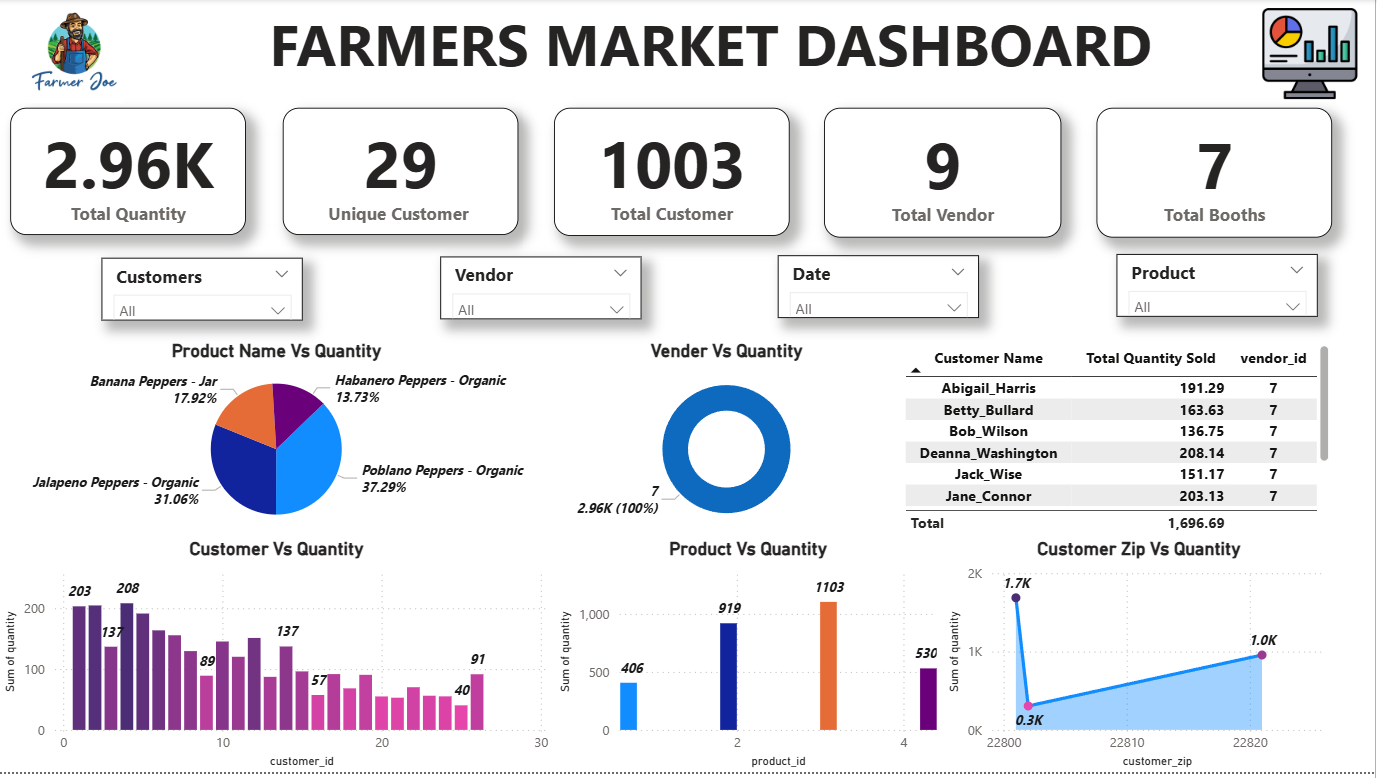

This screenshot's page, from the dashboard's own definition file:
{"tool":"powerbi","page":{"name":"Quantity Wise Analysis","canvas":[1280,720],"ordinal":0},"visuals":[{"type":"columnChart","title":"Customer Vs Quantity","fields":{"Category":["customer_purchases.customer_id"],"Y":["Sum(customer_purchases.quantity)"]},"box":[0,501.2,516.2,218.8],"z":0},{"type":"slicer","fields":{"Values":["customer_purchases.market_date"]},"box":[725,238.8,187.5,58.8],"z":1000},{"type":"clusteredColumnChart","title":"Product Vs Quantity","fields":{"Y":["Sum(customer_purchases.quantity)"],"Series":["product.product_id"],"Category":["product.product_id"]},"box":[516.2,501.2,361.2,218.8],"z":2000},{"type":"pieChart","title":"Product Name Vs Quantity","fields":{"Category":["product.product_name"],"Y":["Sum(customer_purchases.quantity)"]},"box":[0,317.5,516.2,183.8],"z":3000},{"type":"donutChart","title":"Vender Vs Quantity","fields":{"Category":["vendor.vendor_id"],"Y":["Sum(customer_purchases.quantity)"]},"box":[516.2,317.5,321.2,183.8],"z":4000},{"type":"textbox","box":[0,0,1280.3,101.5],"z":5000},{"type":"image","box":[1158.2,0,122.1,101.5],"z":6000},{"type":"card","fields":{"Values":["Sum(customer_purchases.quantity)"]},"box":[11,101.5,219.6,118],"z":7000},{"type":"card","fields":{"Values":["Count(customer_purchases.customer_id)"]},"box":[263.5,101.5,219.6,118],"z":8000},{"type":"card","fields":{"Values":["CountNonNull(customer_purchases.customer_id)"]},"box":[516,101.5,219.6,119.4],"z":9000},{"type":"card","fields":{"Values":["CountNonNull(vendor.vendor_id)"]},"box":[767.1,101.5,220.9,120.8],"z":10000},{"type":"card","fields":{"Values":["Count(vendor_booth_assignments.booth_number)"]},"box":[1020.9,101.5,219.6,120.8],"z":11000},{"type":"image","box":[0,0,140,101.5],"z":12000},{"type":"tableEx","fields":{"Values":["customer.customer_FullName","Sum(customer_purchases.quantity)","customer_purchases.vendor_id"]},"box":[837.5,317.5,405,183.8],"z":13000},{"type":"areaChart","title":"Customer Zip Vs Quantity","fields":{"Category":["customer.customer_zip"],"Y":["Sum(customer_purchases.quantity)"]},"box":[877.5,501.2,365,218.8],"z":14000},{"type":"slicer","fields":{"Values":["customer_purchases.vendor_id"]},"box":[410,240,187.5,58.8],"z":15000},{"type":"slicer","fields":{"Values":["customer_purchases.customer_id"]},"box":[95,241.2,187.5,58.8],"z":16000},{"type":"slicer","fields":{"Values":["customer_purchases.product_id"]},"box":[1040,237.5,187.5,58.8],"z":17000}]}

Visuals, with their boxes in screenshot pixels (x1, y1, x2, y2), scaled from the page's 1280x720 canvas onto the 1377x778 screenshot:
"Customer Vs Quantity" columnChart: x1=0 y1=542 x2=555 y2=777
slicer - customer_purchases.market_date: x1=780 y1=258 x2=982 y2=322
"Product Vs Quantity" clusteredColumnChart: x1=555 y1=542 x2=944 y2=777
"Product Name Vs Quantity" pieChart: x1=0 y1=343 x2=555 y2=542
"Vender Vs Quantity" donutChart: x1=555 y1=343 x2=901 y2=542
textbox: x1=0 y1=0 x2=1376 y2=110
image: x1=1246 y1=0 x2=1376 y2=110
card - Sum(customer_purchases.quantity): x1=12 y1=110 x2=248 y2=237
card - Count(customer_purchases.customer_id): x1=283 y1=110 x2=520 y2=237
card - CountNonNull(customer_purchases.customer_id): x1=555 y1=110 x2=791 y2=239
card - CountNonNull(vendor.vendor_id): x1=825 y1=110 x2=1063 y2=240
card - Count(vendor_booth_assignments.booth_number): x1=1098 y1=110 x2=1335 y2=240
image: x1=0 y1=0 x2=151 y2=110
tableEx - customer.customer_FullName x Sum(customer_purchases.quantity): x1=901 y1=343 x2=1337 y2=542
"Customer Zip Vs Quantity" areaChart: x1=944 y1=542 x2=1337 y2=777
slicer - customer_purchases.vendor_id: x1=441 y1=259 x2=643 y2=323
slicer - customer_purchases.customer_id: x1=102 y1=261 x2=304 y2=324
slicer - customer_purchases.product_id: x1=1119 y1=257 x2=1321 y2=320
